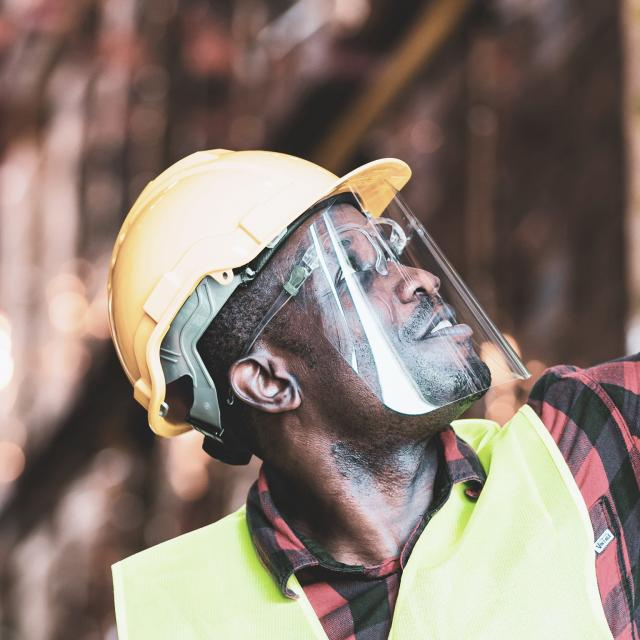helmet: (99, 144, 413, 438)
vest: (94, 401, 622, 640)
